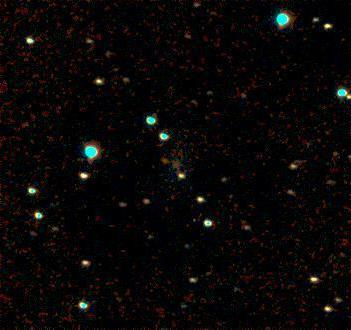star: (149, 143, 179, 173)
